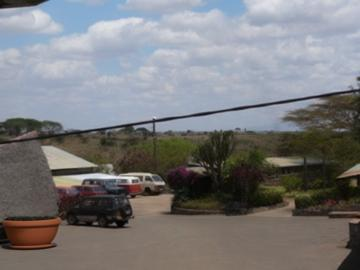car: (66, 195, 135, 231), (118, 172, 167, 198), (84, 180, 128, 198), (115, 176, 144, 198), (73, 185, 107, 197), (57, 187, 76, 202)
pottedplant: (2, 216, 62, 250)
